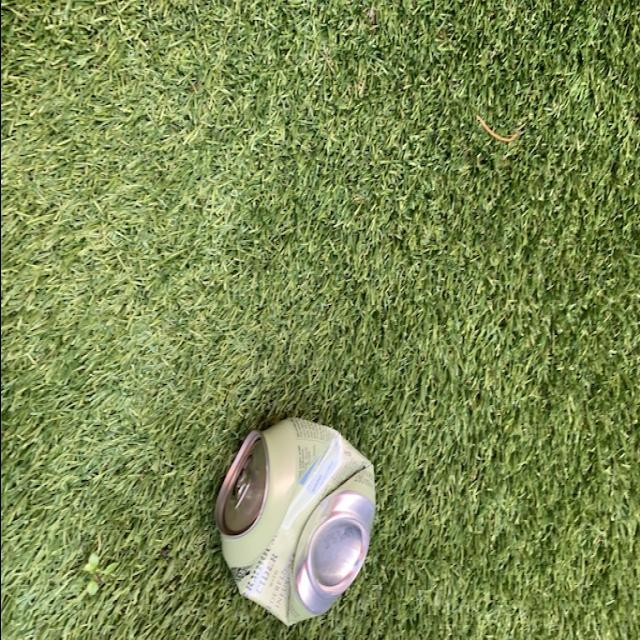Aluminum Can: (206, 411, 383, 629)
